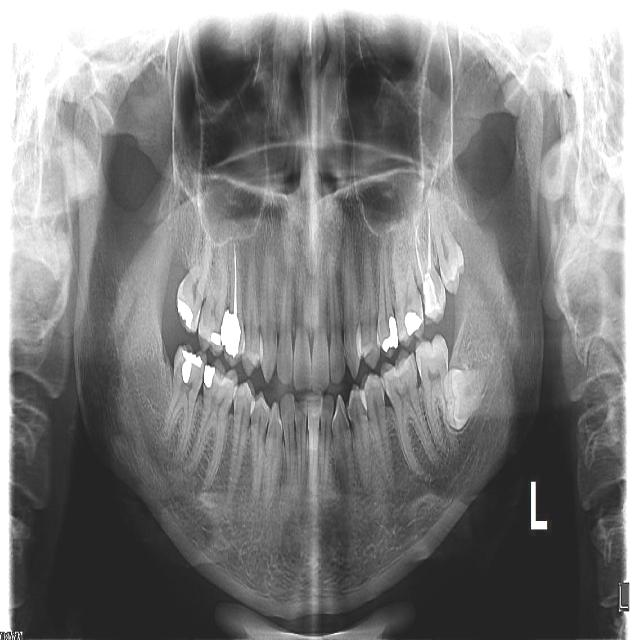Filling: (220, 310, 241, 359), (422, 274, 443, 322), (181, 349, 201, 382), (382, 315, 398, 352), (177, 299, 193, 328), (405, 312, 421, 335), (203, 364, 216, 387), (210, 329, 220, 343)
Root Canal Treatment: (415, 223, 424, 284), (233, 245, 238, 314), (427, 209, 431, 275)
impacted tooth: (429, 183, 464, 294), (448, 354, 494, 429)
